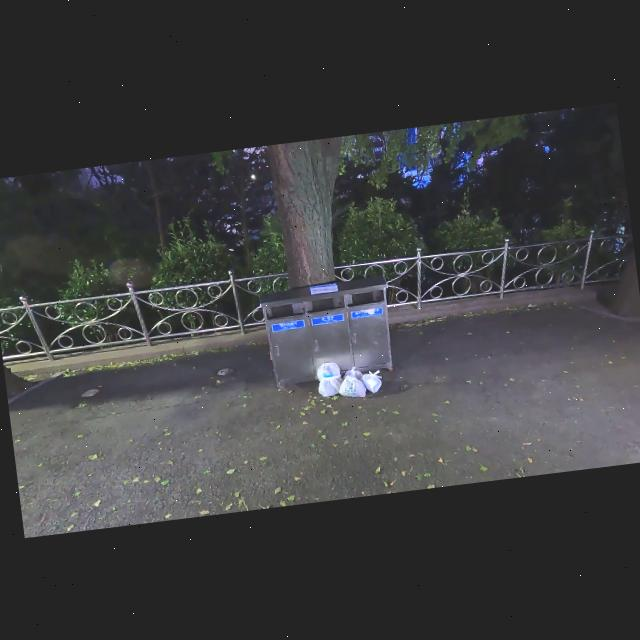trash: (337, 372, 368, 400), (357, 366, 385, 397), (314, 375, 346, 398), (314, 360, 342, 380), (342, 365, 364, 386)
